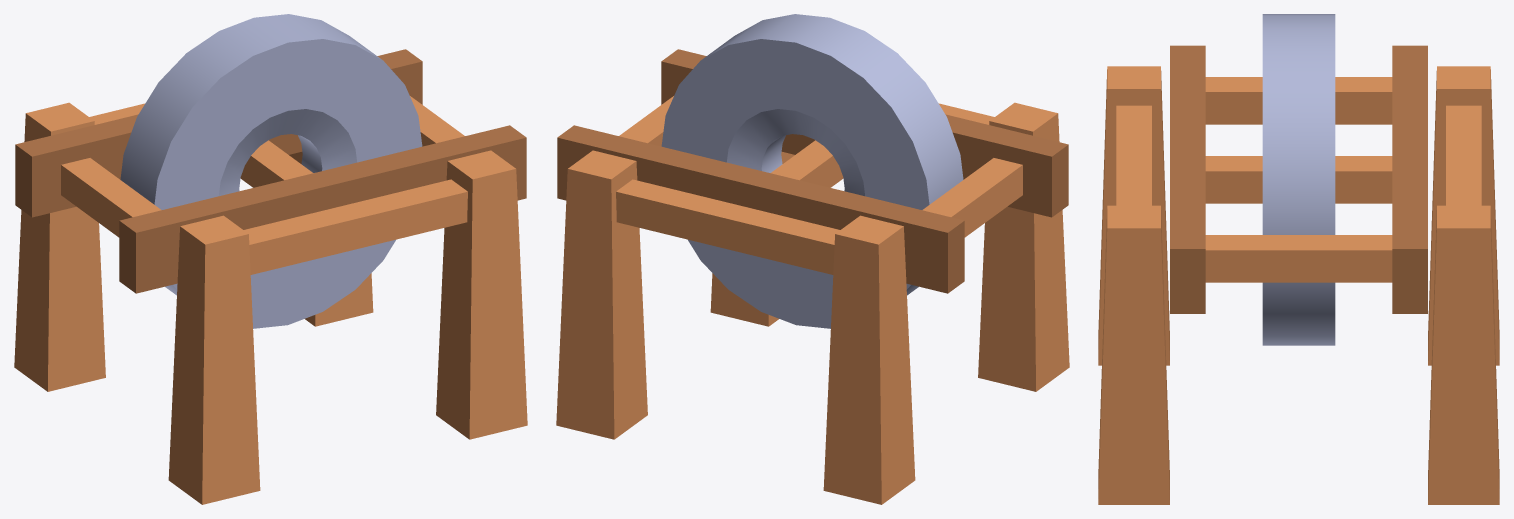
Rendered from workbenchGrind.dae.
3 renders of one model, left to right at view 1: azimuth 30°, elevation 25°; view 2: azimuth 150°, elevation 25°; view 3: azimuth 270°, elevation 25°, orthographic. The views are drawn at different scales.
Visible parts, largest first — view 1: workbenchGrind; view 2: workbenchGrind; view 3: workbenchGrind.
Boxes of the visible parts, bbox=[...] form: workbenchGrind: bbox=[14, 14, 527, 504]; workbenchGrind: bbox=[556, 14, 1069, 504]; workbenchGrind: bbox=[1098, 14, 1499, 504].
Bounding box in the file's own units: 1.25 × 1.12 × 1.04.
